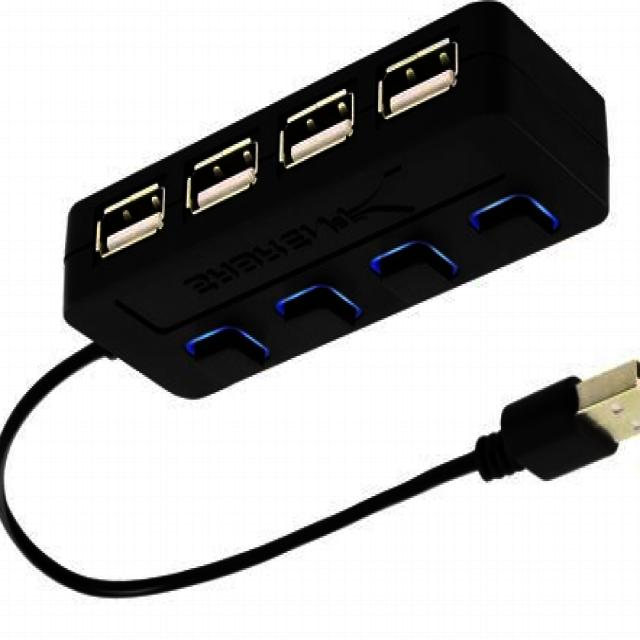usb port: (372, 32, 459, 127), (271, 89, 359, 172), (182, 134, 258, 222), (90, 186, 171, 265)
